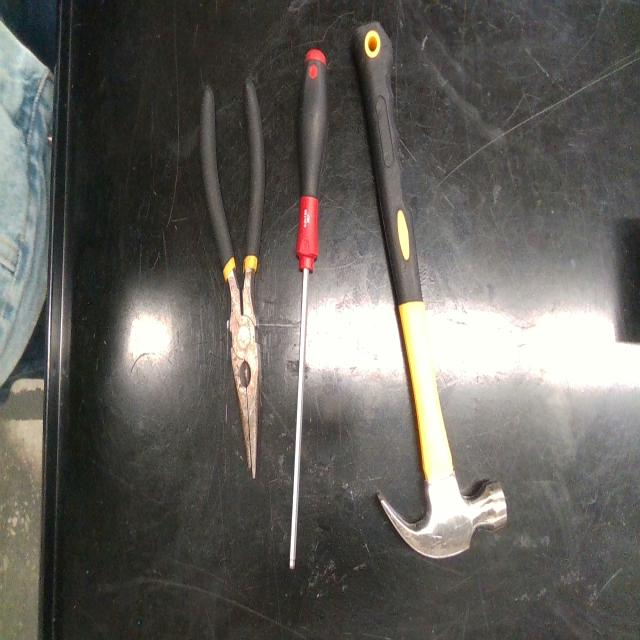Screwdriver: (290, 49, 329, 568)
